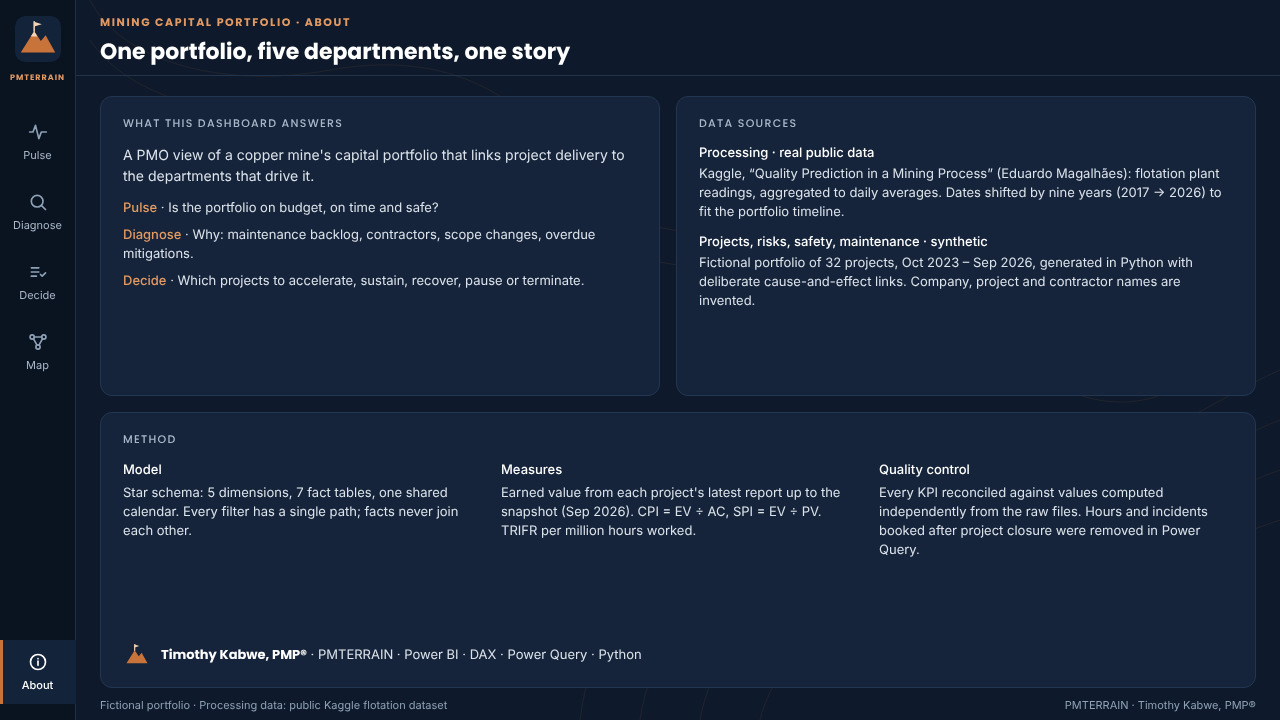

Layout of this report page (visuals, bound fields, positions):
{"tool":"powerbi","page":{"name":"About","canvas":[1280,720],"ordinal":3},"visuals":[{"type":"actionButton","box":[0,110,76,64],"z":0},{"type":"actionButton","box":[0,180,76,64],"z":1000},{"type":"actionButton","box":[0,250,76,64],"z":2000},{"type":"actionButton","box":[0,640,76,64],"z":3000},{"type":"actionButton","box":[0,320,76,64],"z":4000}]}

Visuals, with their boxes on the page's 1280x720 design canvas (x1, y1, x2, y2). These are canvas units, not pixel positions in the 1280x720 screenshot, which may show the page scaled, cropped or inside an application window:
actionButton: 0 110 76 174
actionButton: 0 180 76 244
actionButton: 0 250 76 314
actionButton: 0 640 76 704
actionButton: 0 320 76 384
